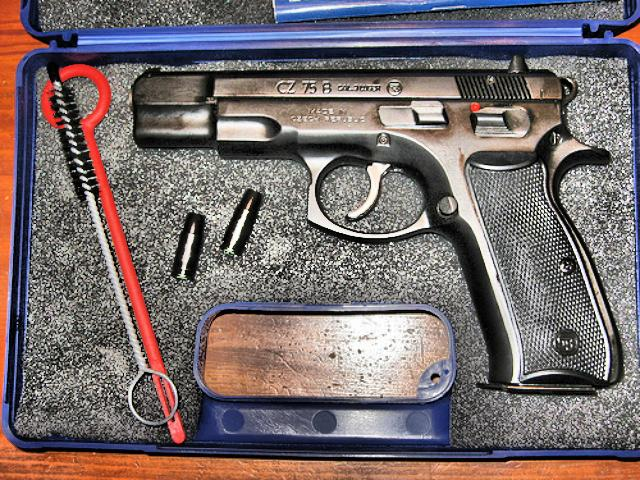pistol: (128, 64, 624, 392)
